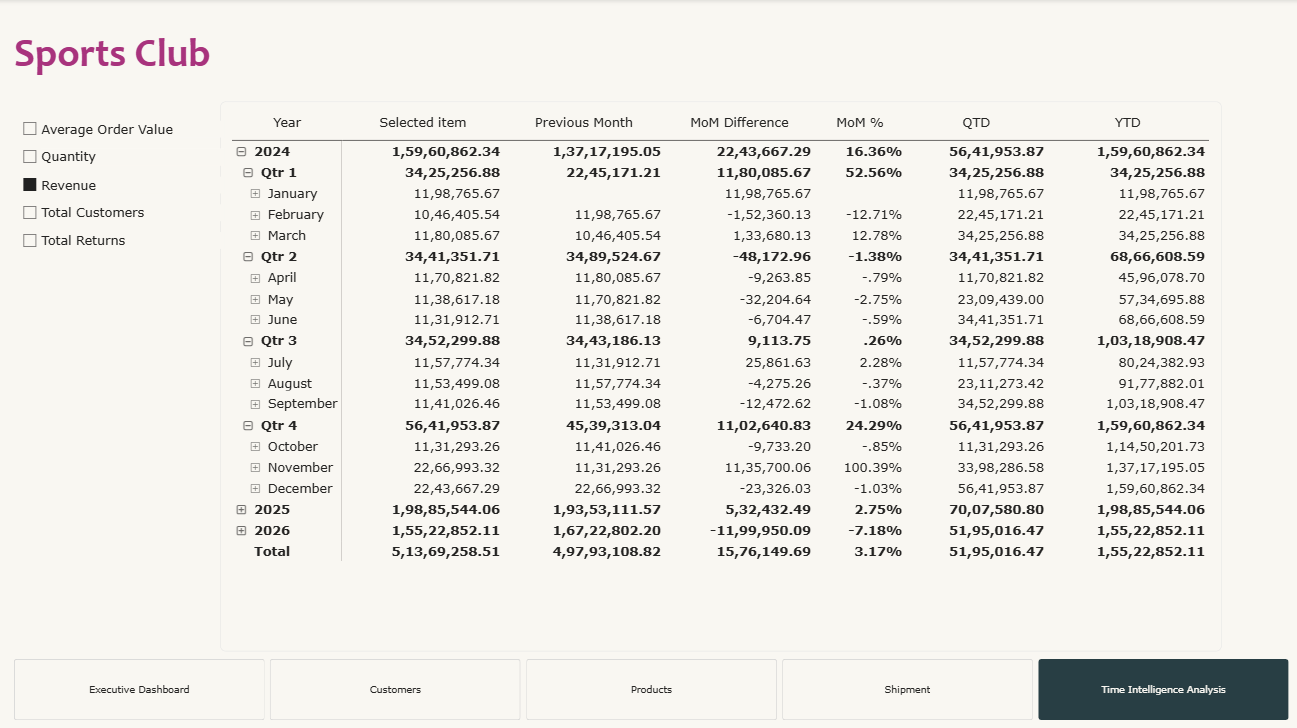

The dashboard page shown, as its layout file describes it:
{"tool":"powerbi","page":{"name":"Time Intelligence Analysis ","canvas":[1920,1080],"ordinal":4},"visuals":[{"type":"pivotTable","fields":{"Columns":["Calculation group.Calculation group column"],"Rows":["Calendar.Date.Variation.Date Hierarchy.Year","Calendar.Date.Variation.Date Hierarchy.Quarter","Calendar.Date.Variation.Date Hierarchy.Month","Calendar.Date.Variation.Date Hierarchy.Day"],"Values":["Key Measures.Revenue"]},"box":[325.8,150.9,1474.2,809.8],"z":0},{"type":"slicer","fields":{"Values":["Parameter.Parameter"]},"box":[27.6,171.2,304,228],"z":1},{"type":"pageNavigator","box":[22.1,971.8,1877.3,90.2],"z":2},{"type":"textbox","box":[22.1,42.3,318.1,107.9],"z":3}]}

Visuals, with their boxes in screenshot pixels (x1, y1, x2, y2), scaled from the page's 1920x1080 canvas onto the 1297x728 screenshot:
pivotTable - Calculation group.Calculation group column x Calendar.Date.Variation.Date Hierarchy.Year: 220:102:1216:648
slicer - Parameter.Parameter: 19:115:224:269
pageNavigator: 15:655:1283:716
textbox: 15:29:230:101
